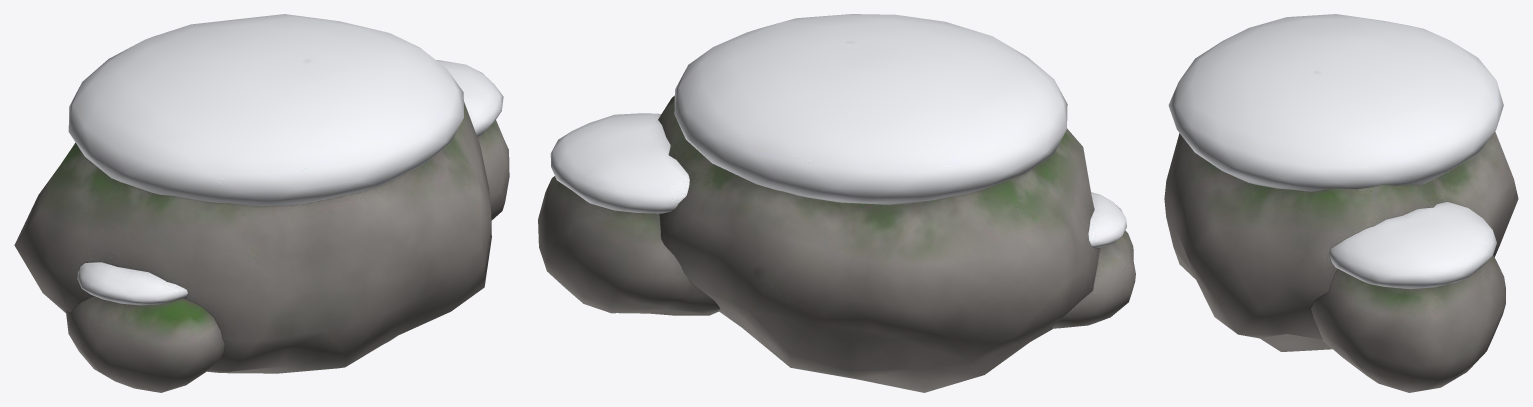
The model's file is rock_snow.glb.
3 renders of one model, left to right at view 1: azimuth 30°, elevation 25°; view 2: azimuth 150°, elevation 25°; view 3: azimuth 270°, elevation 25°, orthographic. The views are drawn at different scales.
Visible parts, largest first — view 1: rock_snow; view 2: rock_snow; view 3: rock_snow.
Boxes of the visible parts, box(x1,y1,x2,y2) form: rock_snow: box(14, 14, 509, 392); rock_snow: box(538, 14, 1135, 392); rock_snow: box(1164, 14, 1518, 392).
Bounding box in the file's own units: 4.24 × 2.42 × 2.92.
2 materials, 2 textured.
